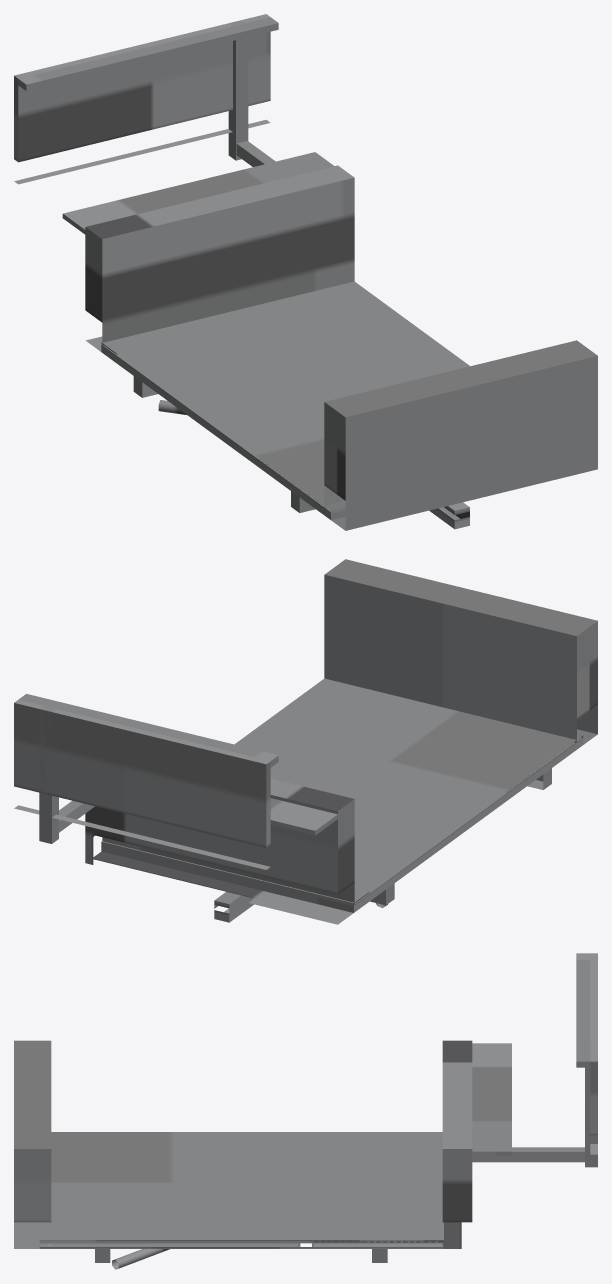
3 renders of one model, top to bottom at view 1: azimuth 30°, elevation 25°; view 2: azimuth 150°, elevation 25°; view 3: azimuth 270°, elevation 25°, orthographic. The views are drawn at different scales.
Bounding box in the file's own units: 1 × 0.935 × 2.28.
